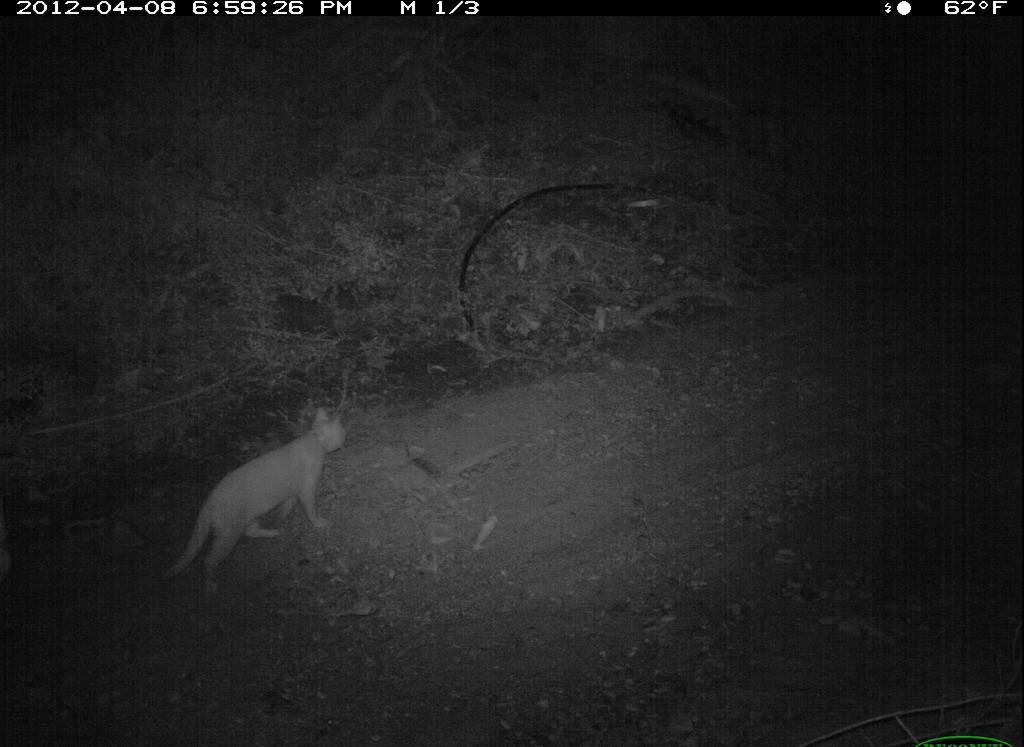cat: (162, 400, 356, 604)
